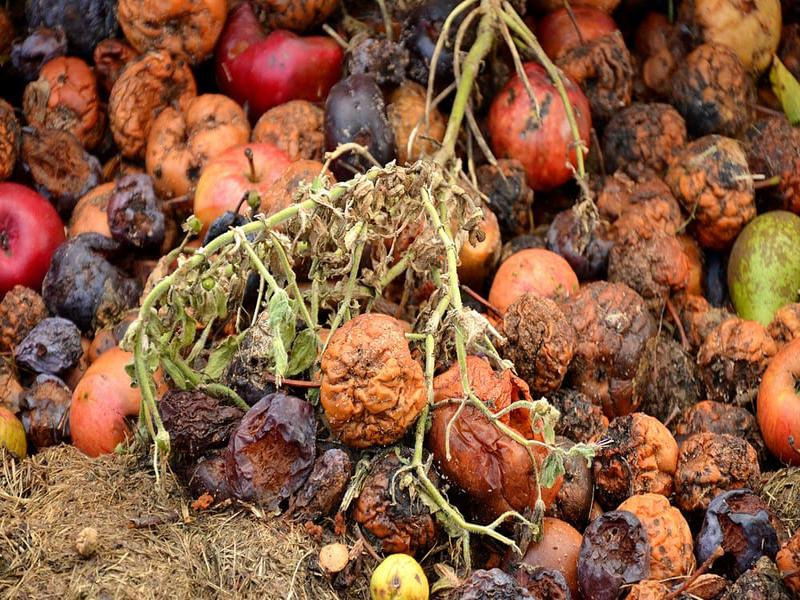vegetation: (4, 2, 800, 600)
